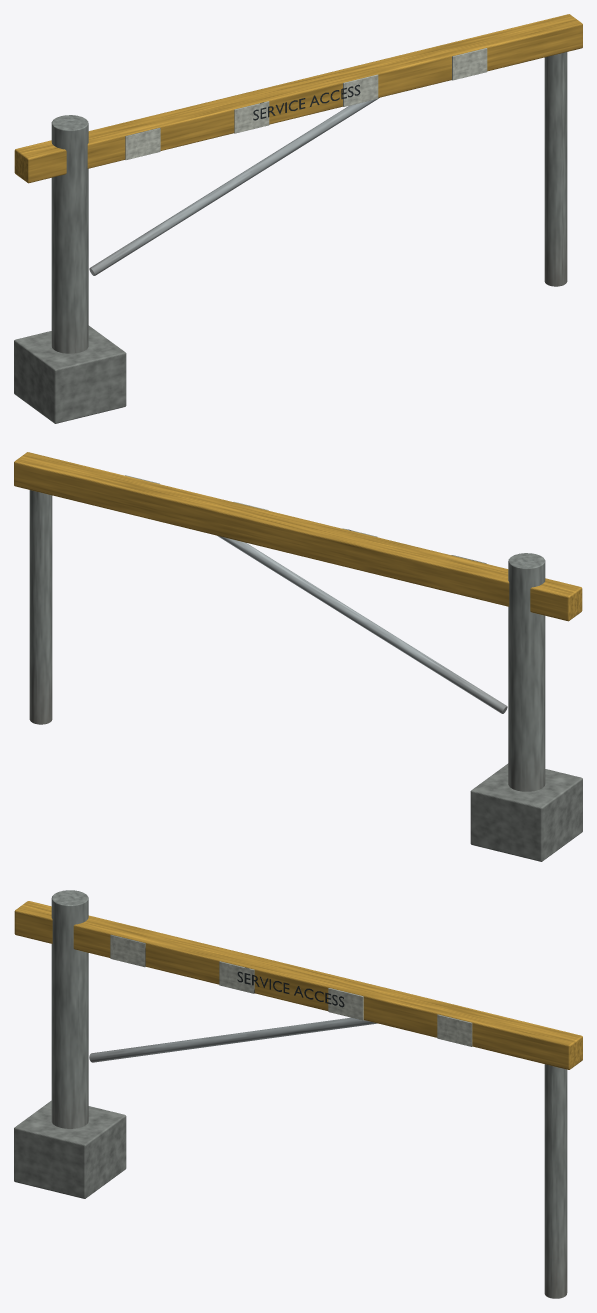
File: GR_ServiceBarrier_03.glb
The picture shows the model from 3 angles, top to bottom: view 1: azimuth 30°, elevation 25°; view 2: azimuth 150°, elevation 25°; view 3: azimuth 330°, elevation 25°; orthographic projection.
Parts seen in each view (by area): view 1: Static; view 2: Static; view 3: Static.
Boxes of the visible parts, x1,y1,x2,y2 form: Static: [14, 14, 582, 423]; Static: [14, 452, 582, 861]; Static: [14, 890, 582, 1298].
Size of the model in its own units: 2.55 by 1.22 by 0.33.
Materials: 1 (1 with a texture image).
